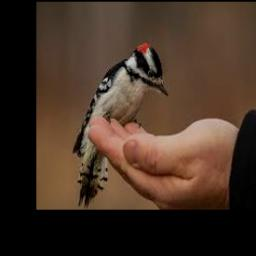Woodpecker: (73, 41, 168, 209)
